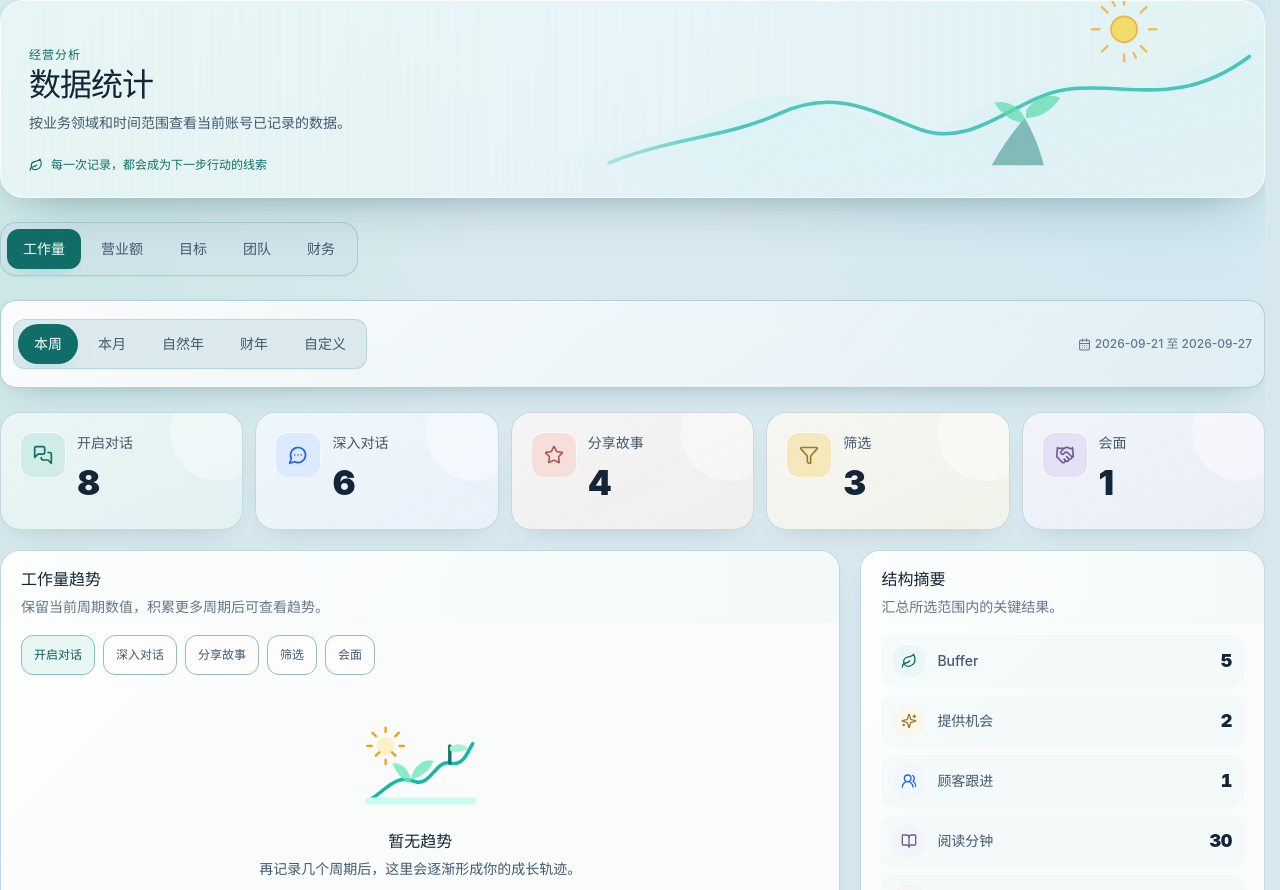
Test: AnalyticsPage › switches domains and time ranges while showing KPI trend and details
The width and height of the screenshot is (1280, 890).
Expected: the heading "工作量趋势" is shown, [21, 569, 101, 589]
Expected: the heading "暂无趋势" is shown, [388, 829, 452, 853]
Click the button "自定义" at [325, 344], box [288, 324, 362, 364]
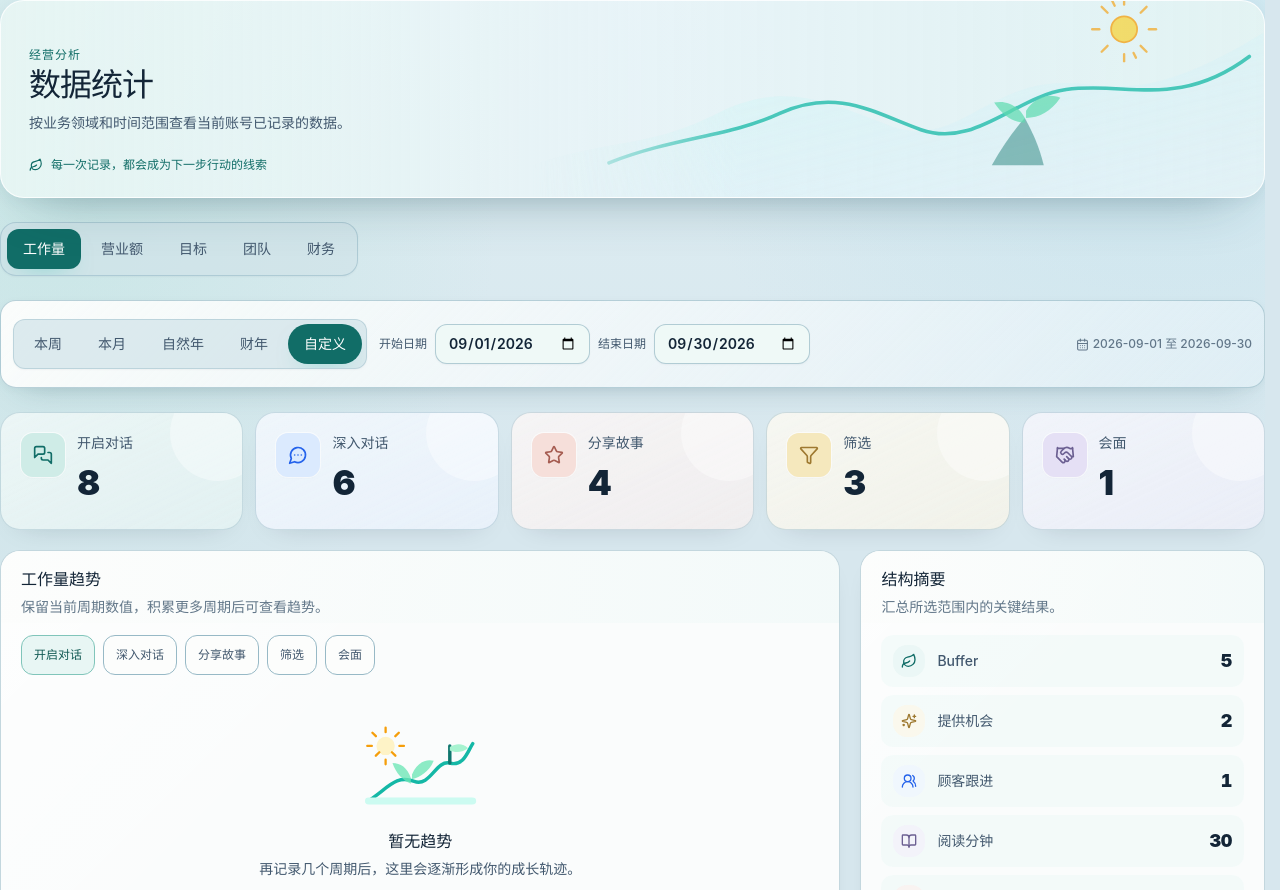
Result: the date field labelled "开始日期" is shown at [435, 324, 590, 364]
Press the mouse on the tab "财务" at [321, 249], box [291, 229, 351, 269]
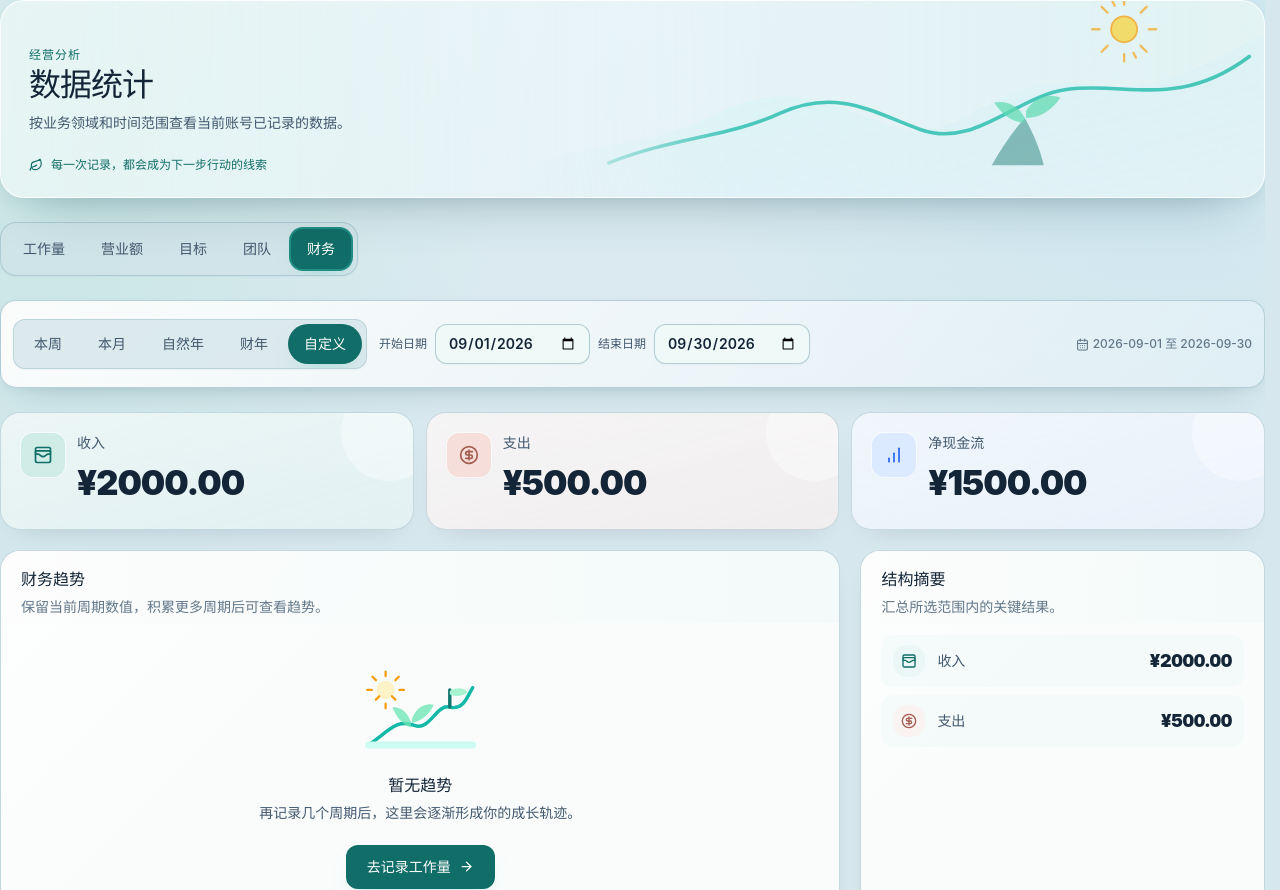
Result: the heading "财务趋势" is shown at [21, 569, 85, 589]
